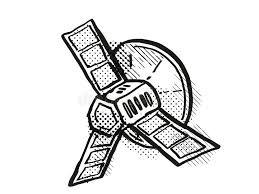antenna: (108, 37, 194, 149)
body: (83, 78, 163, 136)
solar: (60, 18, 128, 98), (132, 108, 222, 167), (67, 125, 124, 187)
